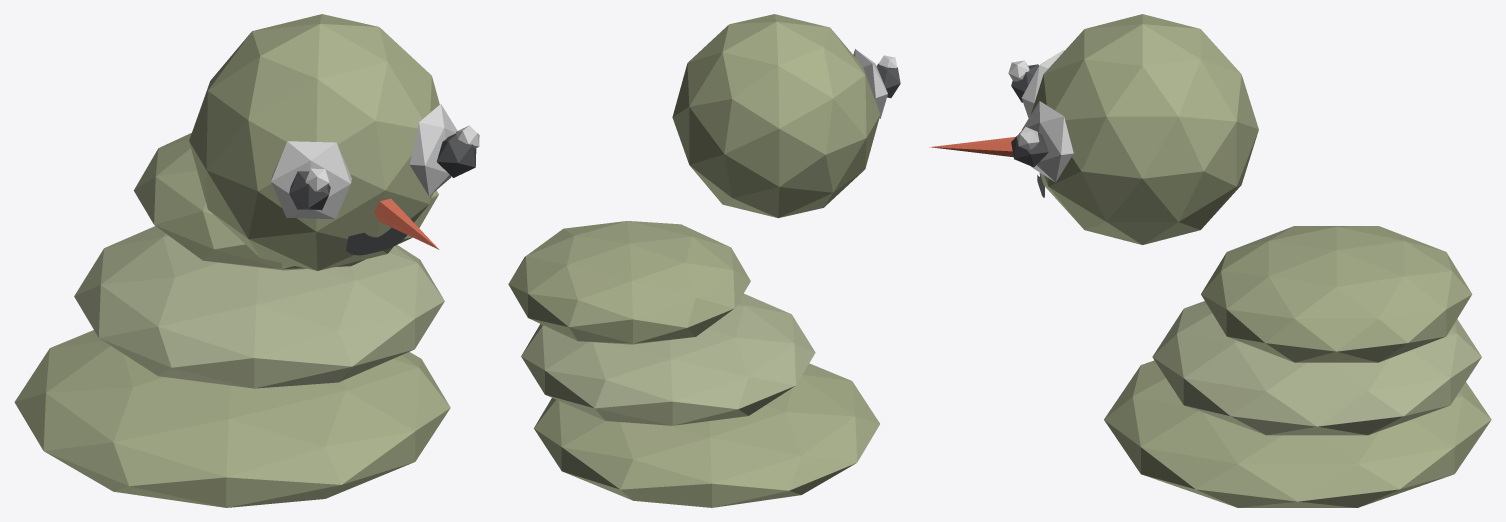
Rendered from eutropis-multifasciata.glb.
The picture shows the model from 3 angles, left to right: view 1: azimuth 30°, elevation 25°; view 2: azimuth 150°, elevation 25°; view 3: azimuth 270°, elevation 25°; orthographic projection. The views are drawn at different scales.
Visible parts, largest first — view 1: coil0, head, coil1, coil2, face-eye-r, face-eye-l, face-pupil-l, tongue, face-smile, face-pupil-r; view 2: head, coil0, coil1, coil2, face-eye-r, face-pupil-r; view 3: head, coil2, coil0, coil1, face-eye-l, tongue, face-eye-r, face-pupil-l.
Part boxes in pixels (x1,y1,x2,y2): coil0: (14, 330, 450, 507); head: (189, 14, 439, 270); coil1: (74, 226, 444, 388); coil2: (133, 133, 438, 270); face-eye-r: (271, 141, 351, 219); face-eye-l: (409, 104, 457, 196); face-pupil-l: (436, 133, 476, 177); tongue: (374, 198, 439, 249); face-smile: (346, 227, 407, 255); face-pupil-r: (289, 171, 330, 210); head: (672, 14, 880, 218); coil0: (534, 363, 879, 507); coil1: (521, 293, 815, 425); coil2: (508, 221, 750, 344); face-eye-r: (853, 49, 887, 118); face-pupil-r: (876, 63, 900, 98); head: (1031, 14, 1258, 244); coil2: (1201, 226, 1472, 362); coil0: (1104, 360, 1491, 507); coil1: (1152, 301, 1481, 435); face-eye-l: (1021, 101, 1073, 182); tongue: (929, 137, 1015, 157); face-eye-r: (1021, 50, 1064, 118); face-pupil-l: (1011, 126, 1048, 167).
Bounding box in the file's own units: 0.42 × 0.5 × 0.58.
